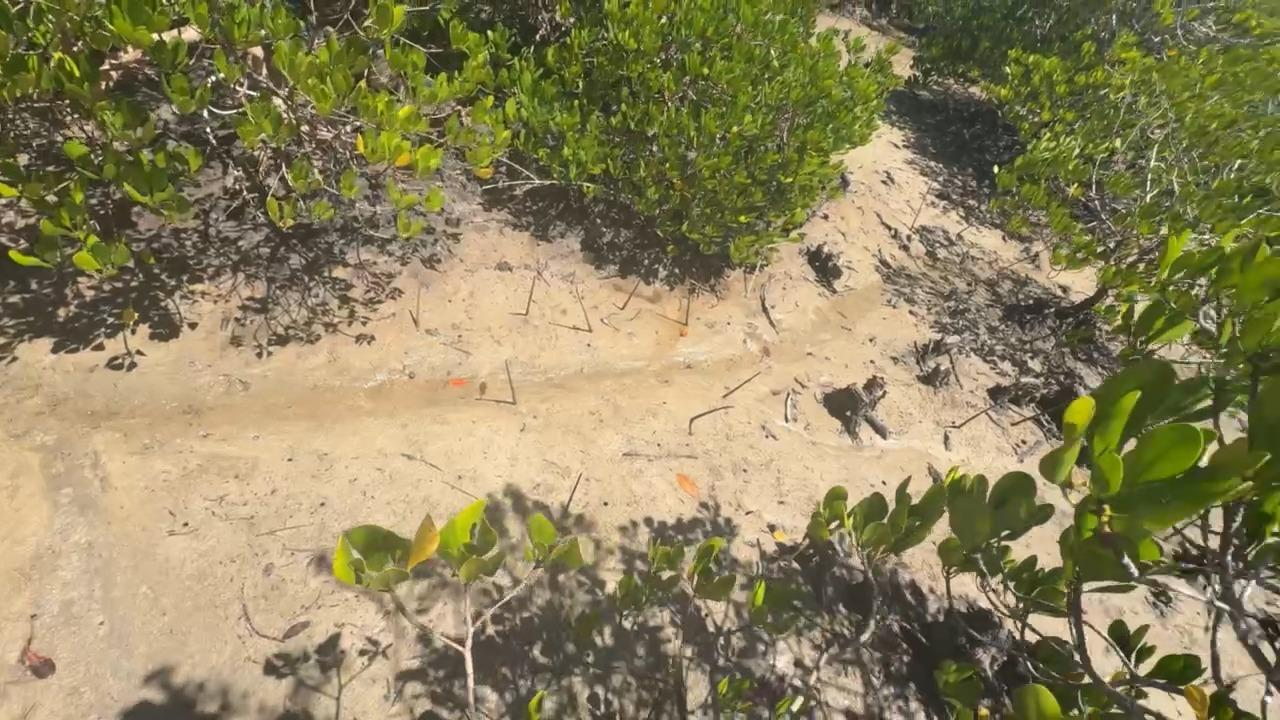Tree: (1009, 399, 1072, 426), (955, 400, 1005, 428), (720, 372, 761, 398), (910, 183, 932, 231), (562, 472, 583, 518), (690, 406, 735, 424), (576, 285, 593, 332), (620, 277, 643, 310), (746, 259, 762, 298), (505, 359, 516, 405), (1025, 330, 1056, 345), (526, 276, 535, 315), (685, 287, 692, 325), (415, 287, 421, 328), (956, 225, 972, 236), (995, 320, 1007, 327)
